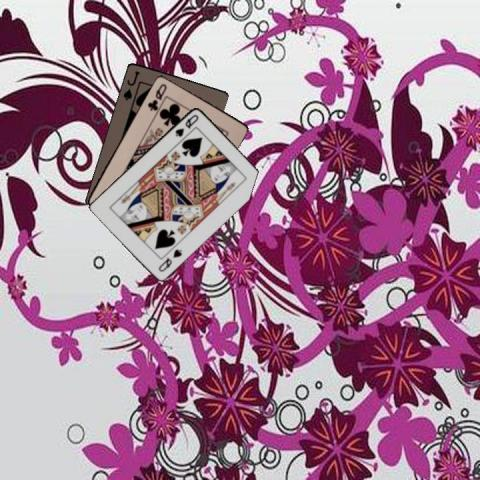Js: (120, 68, 141, 102)
Qc: (145, 80, 168, 112)
Qs: (172, 111, 200, 138), (156, 246, 184, 273)
